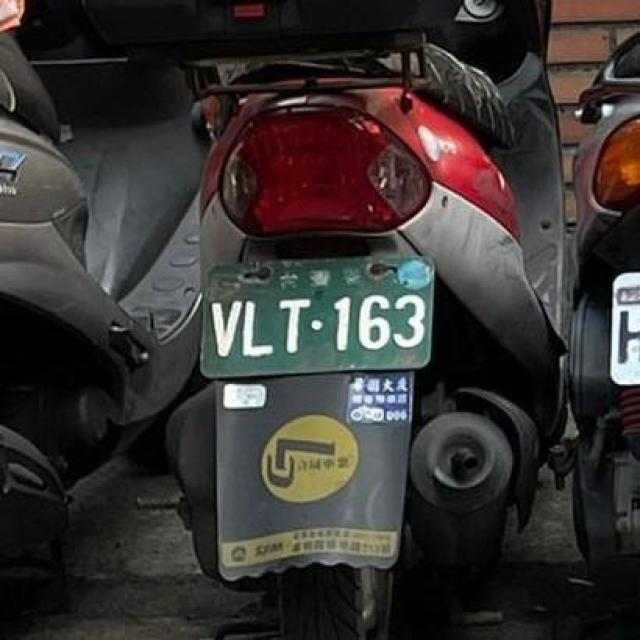GW: (190, 228, 444, 392)
W: (601, 254, 640, 394)
